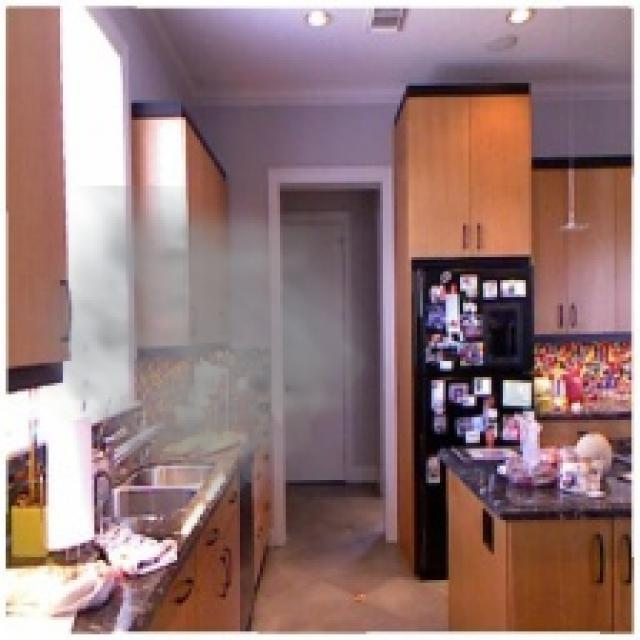Smoke: (17, 186, 386, 543)
